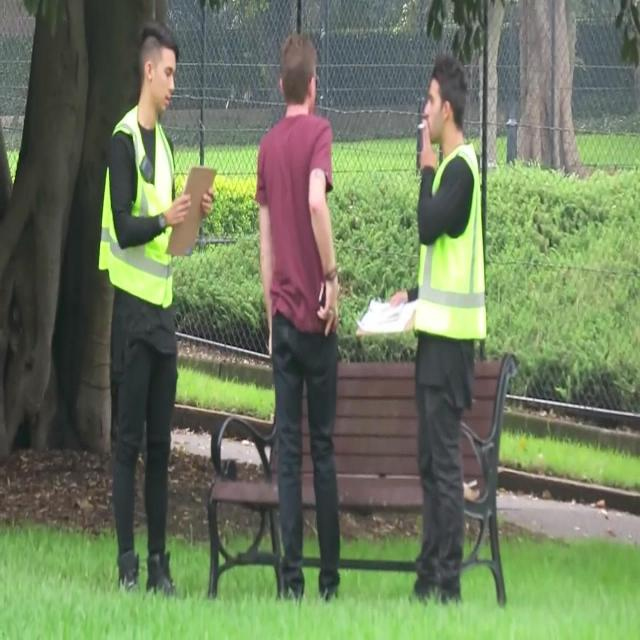Reflective-Jacket: (93, 105, 193, 319), (405, 140, 491, 354)
